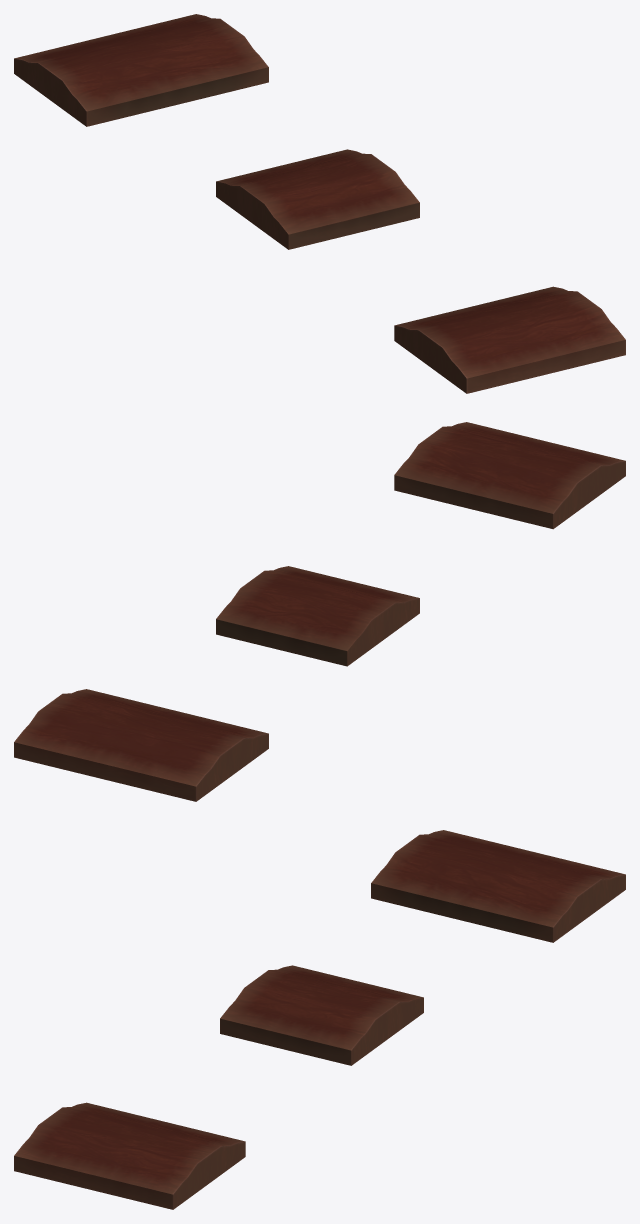
The model's file is Roof_tile.fbx.
3 renders of one model, top to bottom at view 1: azimuth 30°, elevation 25°; view 2: azimuth 150°, elevation 25°; view 3: azimuth 330°, elevation 25°, orthographic.
Parts seen in each view (by area): view 1: Roof_Tile2, Roof_Tile3, Roof_Tile1; view 2: Roof_Tile2, Roof_Tile3, Roof_Tile1; view 3: Roof_Tile2, Roof_Tile3, Roof_Tile1.
Boxes of the visible parts, bbox=[...] form: Roof_Tile2: bbox=[14, 14, 268, 126]; Roof_Tile3: bbox=[394, 286, 625, 393]; Roof_Tile1: bbox=[216, 149, 419, 249]; Roof_Tile2: bbox=[14, 689, 268, 801]; Roof_Tile3: bbox=[394, 422, 625, 529]; Roof_Tile1: bbox=[216, 566, 419, 666]; Roof_Tile2: bbox=[371, 830, 625, 942]; Roof_Tile3: bbox=[14, 1102, 245, 1209]; Roof_Tile1: bbox=[220, 965, 423, 1065].
Bounding box in the file's own units: 59.28 × 8.81 × 249.
